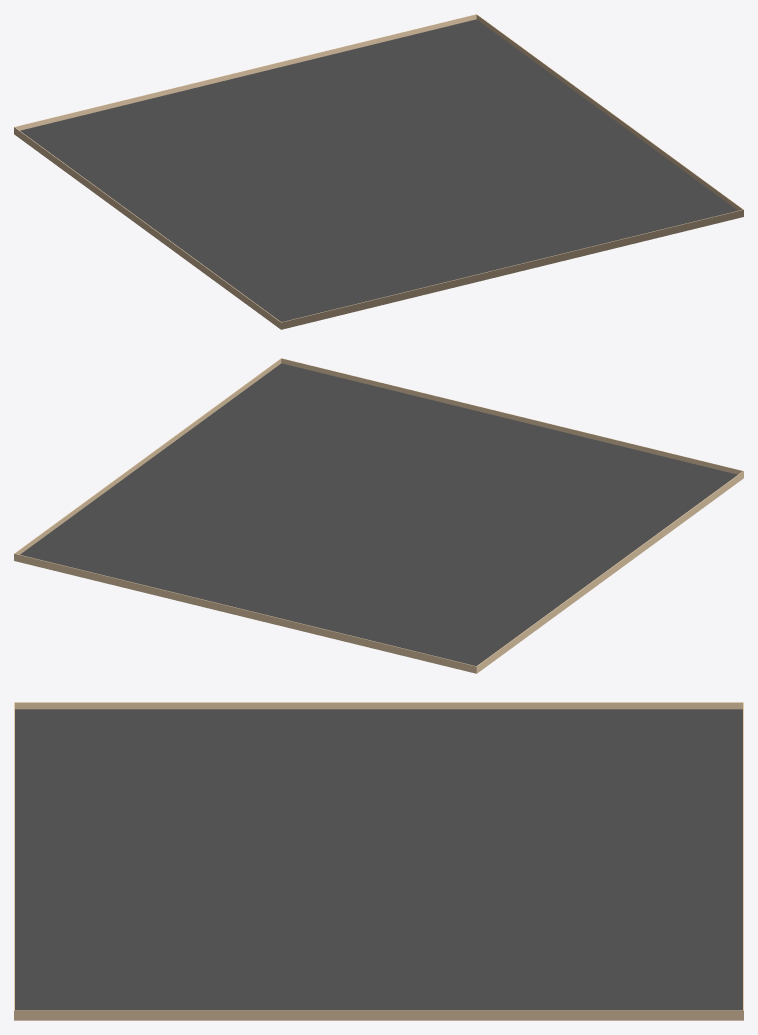
File: arena_square.obj
The picture shows the model from 3 angles, top to bottom: view 1: azimuth 30°, elevation 25°; view 2: azimuth 150°, elevation 25°; view 3: azimuth 270°, elevation 25°; orthographic projection. The views are drawn at different scales.
Size of the model in its own units: 200 by 3 by 200.
Materials: 1 (1 with a texture image).
